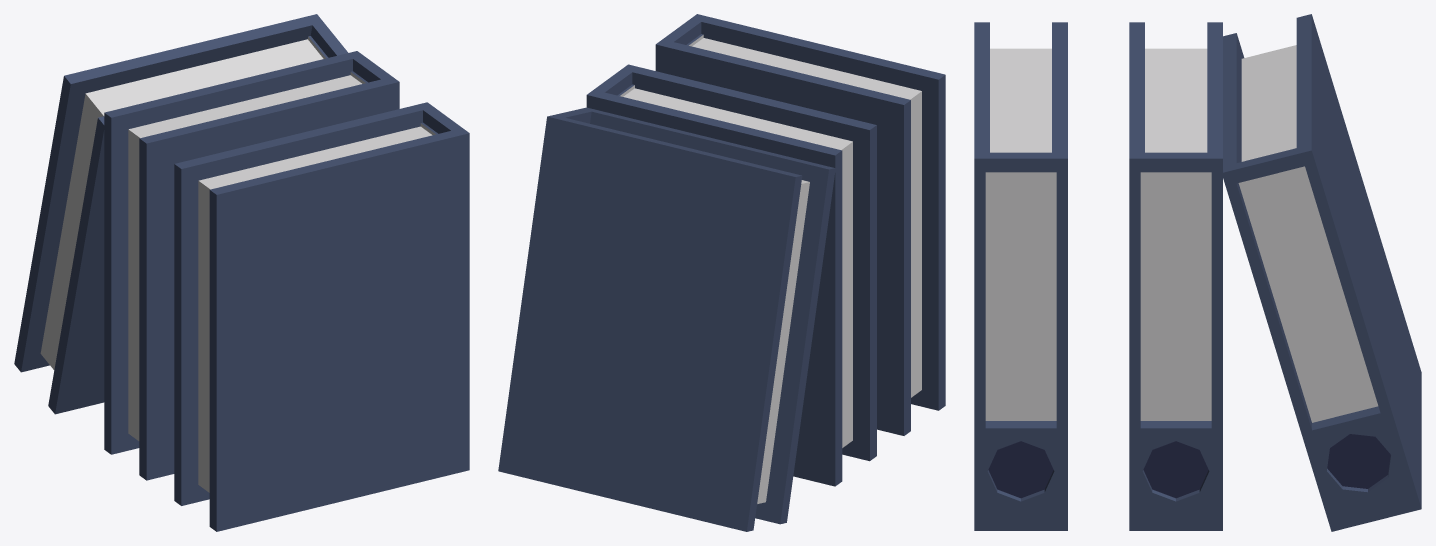
File: SM_Binder_03.glb
The picture shows the model from 3 angles, left to right: view 1: azimuth 30°, elevation 25°; view 2: azimuth 150°, elevation 25°; view 3: azimuth 270°, elevation 25°; orthographic projection. The views are drawn at different scales.
Parts seen in each view (by area): view 1: SM_Binder_03; view 2: SM_Binder_03; view 3: SM_Binder_03.
Boxes of the visible parts, left/top/right/bottom form: SM_Binder_03: left=14, top=14, right=469, bottom=531; SM_Binder_03: left=498, top=14, right=945, bottom=531; SM_Binder_03: left=974, top=14, right=1421, bottom=531.
Bounding box in the file's own units: 0.2372 × 0.3092 × 0.3287.
1 material, 1 textured.
